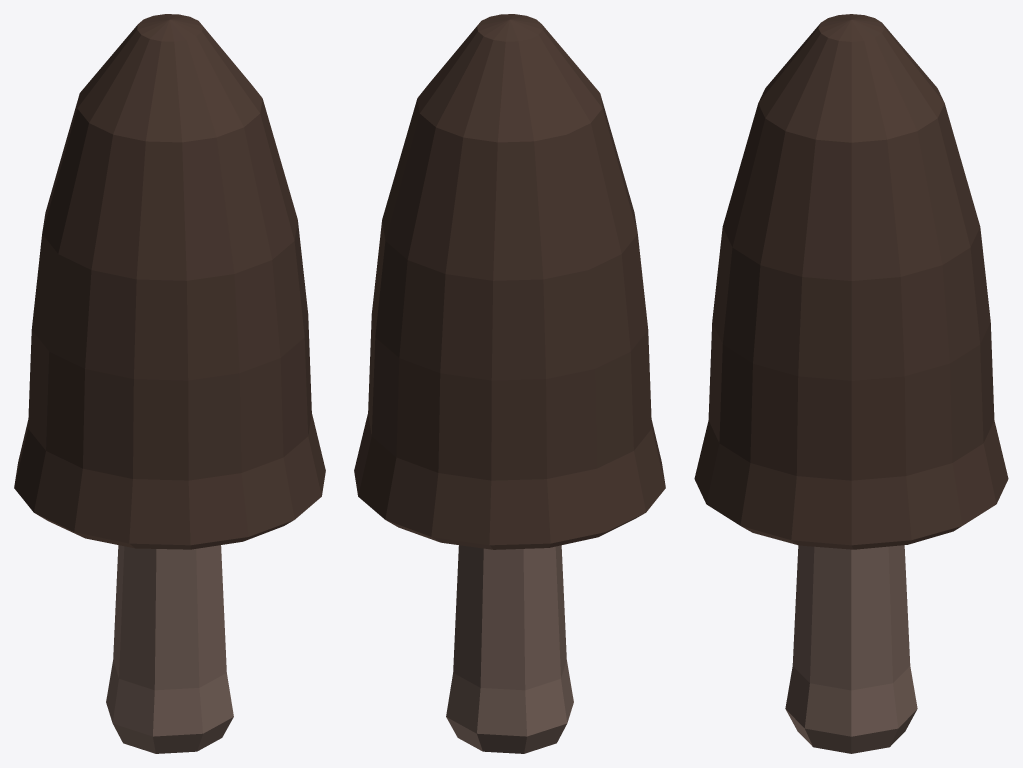
File: SK_Mushroom_01.fbx
3 renders of one model, left to right at view 1: azimuth 30°, elevation 25°; view 2: azimuth 150°, elevation 25°; view 3: azimuth 270°, elevation 25°, orthographic.
Visible parts, largest first — view 1: Cap; view 2: Cap; view 3: Cap.
Boxes of the visible parts, x1,y1,x2,y2 form: Cap: (14,14,325,753); Cap: (354,14,665,753); Cap: (694,14,1008,753).
Size of the model in its own units: 128 by 325 by 128.
